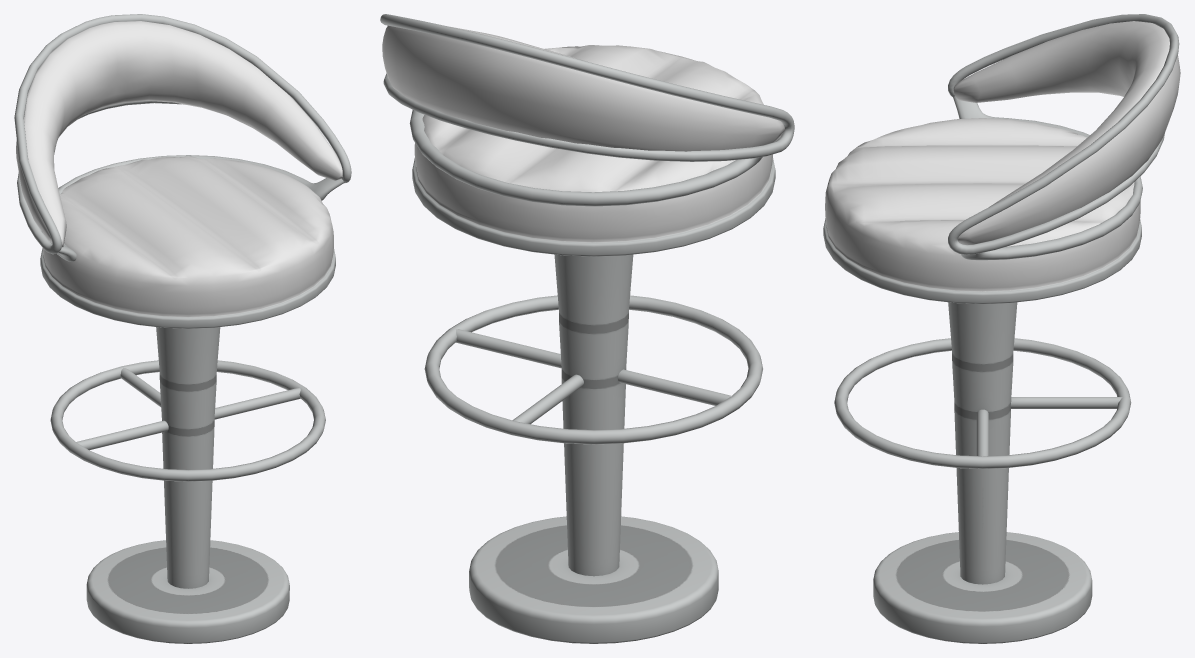
The model's file is BarChair02.FBX.
3 views of the same model, side by side, from view 1: azimuth 30°, elevation 25°; view 2: azimuth 150°, elevation 25°; view 3: azimuth 270°, elevation 25° (orthographic). The views are drawn at different scales.
Parts seen in each view (by area): view 1: BarChair02; view 2: BarChair02; view 3: BarChair02.
Boxes of the visible parts, left/top/right/bottom form: BarChair02: left=14, top=14, right=351, bottom=643; BarChair02: left=380, top=14, right=794, bottom=643; BarChair02: left=823, top=14, right=1180, bottom=643.
Size of what is drawn, in the model's own units: 0.6504 by 1.08 by 0.6241.
